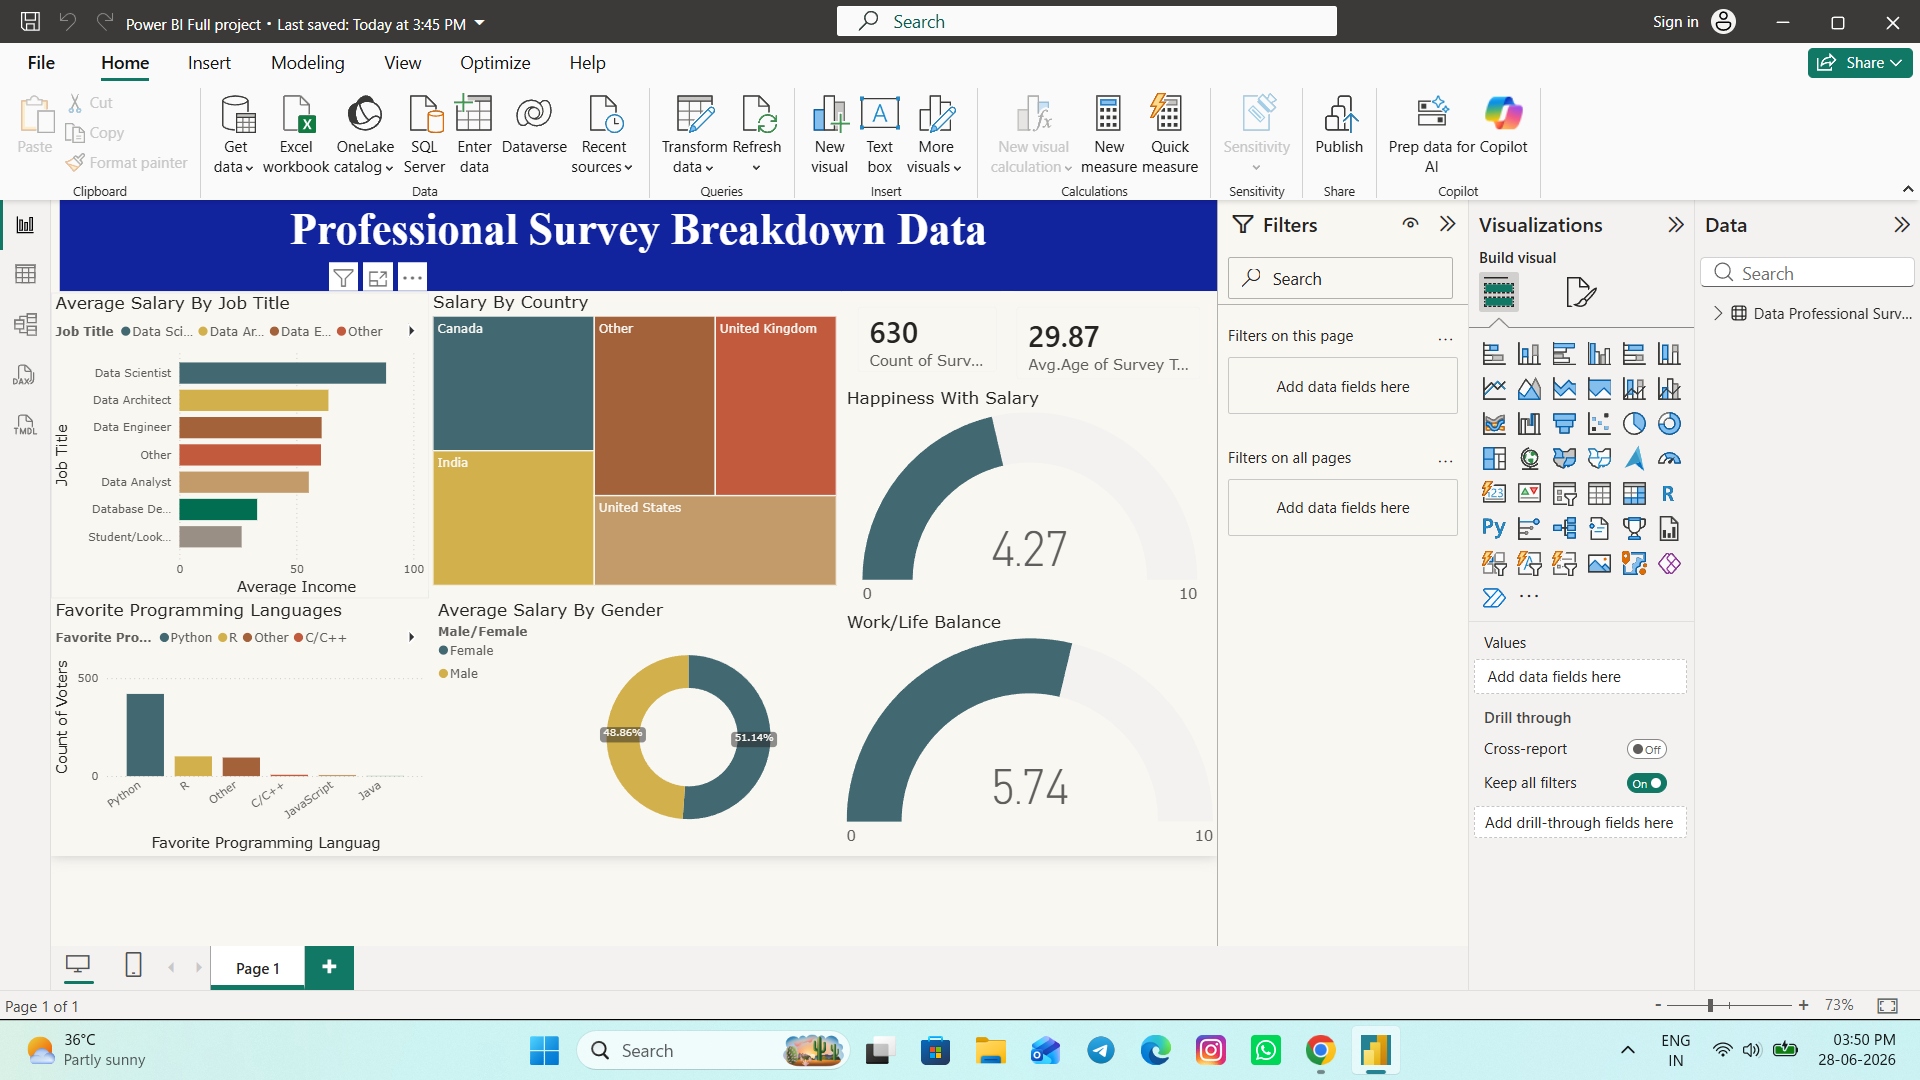

Layout of this report page (visuals, bound fields, positions):
{"tool":"powerbi","page":{"name":"Page 1","canvas":[1280,720],"ordinal":0},"visuals":[{"type":"textbox","box":[10,0,280,280],"z":0},{"type":"textbox","box":[9.6,0,1270.7,100.2],"z":1000},{"type":"cardVisual","fields":{"Data":["Count(Data Professional Survey.Unique ID)"]},"box":[868,99.6,187.9,106.6],"z":2000},{"type":"cardVisual","fields":{"Data":["Avg(Data Professional Survey.Q10 - Current Age)"]},"box":[1043.3,99.6,237,115],"z":3000},{"type":"barChart","title":"Average Salary By Job Title","fields":{"Category":["Data Professional Survey.Q1 - Which Title Best Fits your Current Role?.1"],"Y":["Avg(Data Professional Survey.Average Income)"],"Series":["Data Professional Survey.Q1 - Which Title Best Fits your Current Role?.1"]},"box":[0,101,415.1,336.5],"z":4000},{"type":"columnChart","title":"Favorite Programming Languages","fields":{"Category":["Data Professional Survey.Q5 - Favorite Programming Language.1"],"Y":["CountNonNull(Data Professional Survey.Unique ID)"],"Series":["Data Professional Survey.Q5 - Favorite Programming Language.1"]},"box":[0,437.5,415.1,281.9],"z":5000},{"type":"treemap","title":"Salary By Country","fields":{"Group":["Data Professional Survey.Q11 - Which Country do you live in?.1"],"Values":["Count(Data Professional Survey.Q11 - Which Country do you live in?.1)"]},"box":[415.1,99.6,452.9,328.1],"z":6000},{"type":"gauge","title":"Happiness With Salary","fields":{"Y":["Avg(Data Professional Survey.Q6 - How Happy are you in your Current Position with the following? (Salary))"],"MinValue":["Min(Data Professional Survey.Q6 - How Happy are you in your Current Position with the following? (Salary))"],"MaxValue":["Max(Data Professional Survey.Q6 - How Happy are you in your Current Position with the following? (Salary))"]},"box":[868,206.1,412.3,245.4],"z":7000},{"type":"gauge","title":"Work/Life Balance","fields":{"Y":["Avg(Data Professional Survey.Q6 - How Happy are you in your Current Position with the following? (Work/Life Balance))"],"MinValue":["Min(Data Professional Survey.Q6 - How Happy are you in your Current Position with the following? (Work/Life Balance))1"],"MaxValue":["Max(Data Professional Survey.Q6 - How Happy are you in your Current Position with the following? (Work/Life Balance))2"]},"box":[868,451.5,412.3,267.8],"z":8000},{"type":"donutChart","title":"Average Salary By Gender","fields":{"Category":["Data Professional Survey.Q9 - Male/Female?"],"Y":["Avg(Data Professional Survey.Average Income)"]},"box":[419.3,437.5,452.9,281.9],"z":9000}]}

Visuals, with their boxes on the page's 1280x720 design canvas (x1, y1, x2, y2). These are canvas units, not pixel positions in the 1920x1080 screenshot, which may show the page scaled, cropped or inside an application window:
textbox: 10/0/290/280
textbox: 10/0/1280/100
cardVisual - Count(Data Professional Survey.Unique ID): 868/100/1056/206
cardVisual - Avg(Data Professional Survey.Q10 - Current Age): 1043/100/1280/215
"Average Salary By Job Title" barChart: 0/101/415/438
"Favorite Programming Languages" columnChart: 0/438/415/719
"Salary By Country" treemap: 415/100/868/428
"Happiness With Salary" gauge: 868/206/1280/452
"Work/Life Balance" gauge: 868/452/1280/719
"Average Salary By Gender" donutChart: 419/438/872/719
